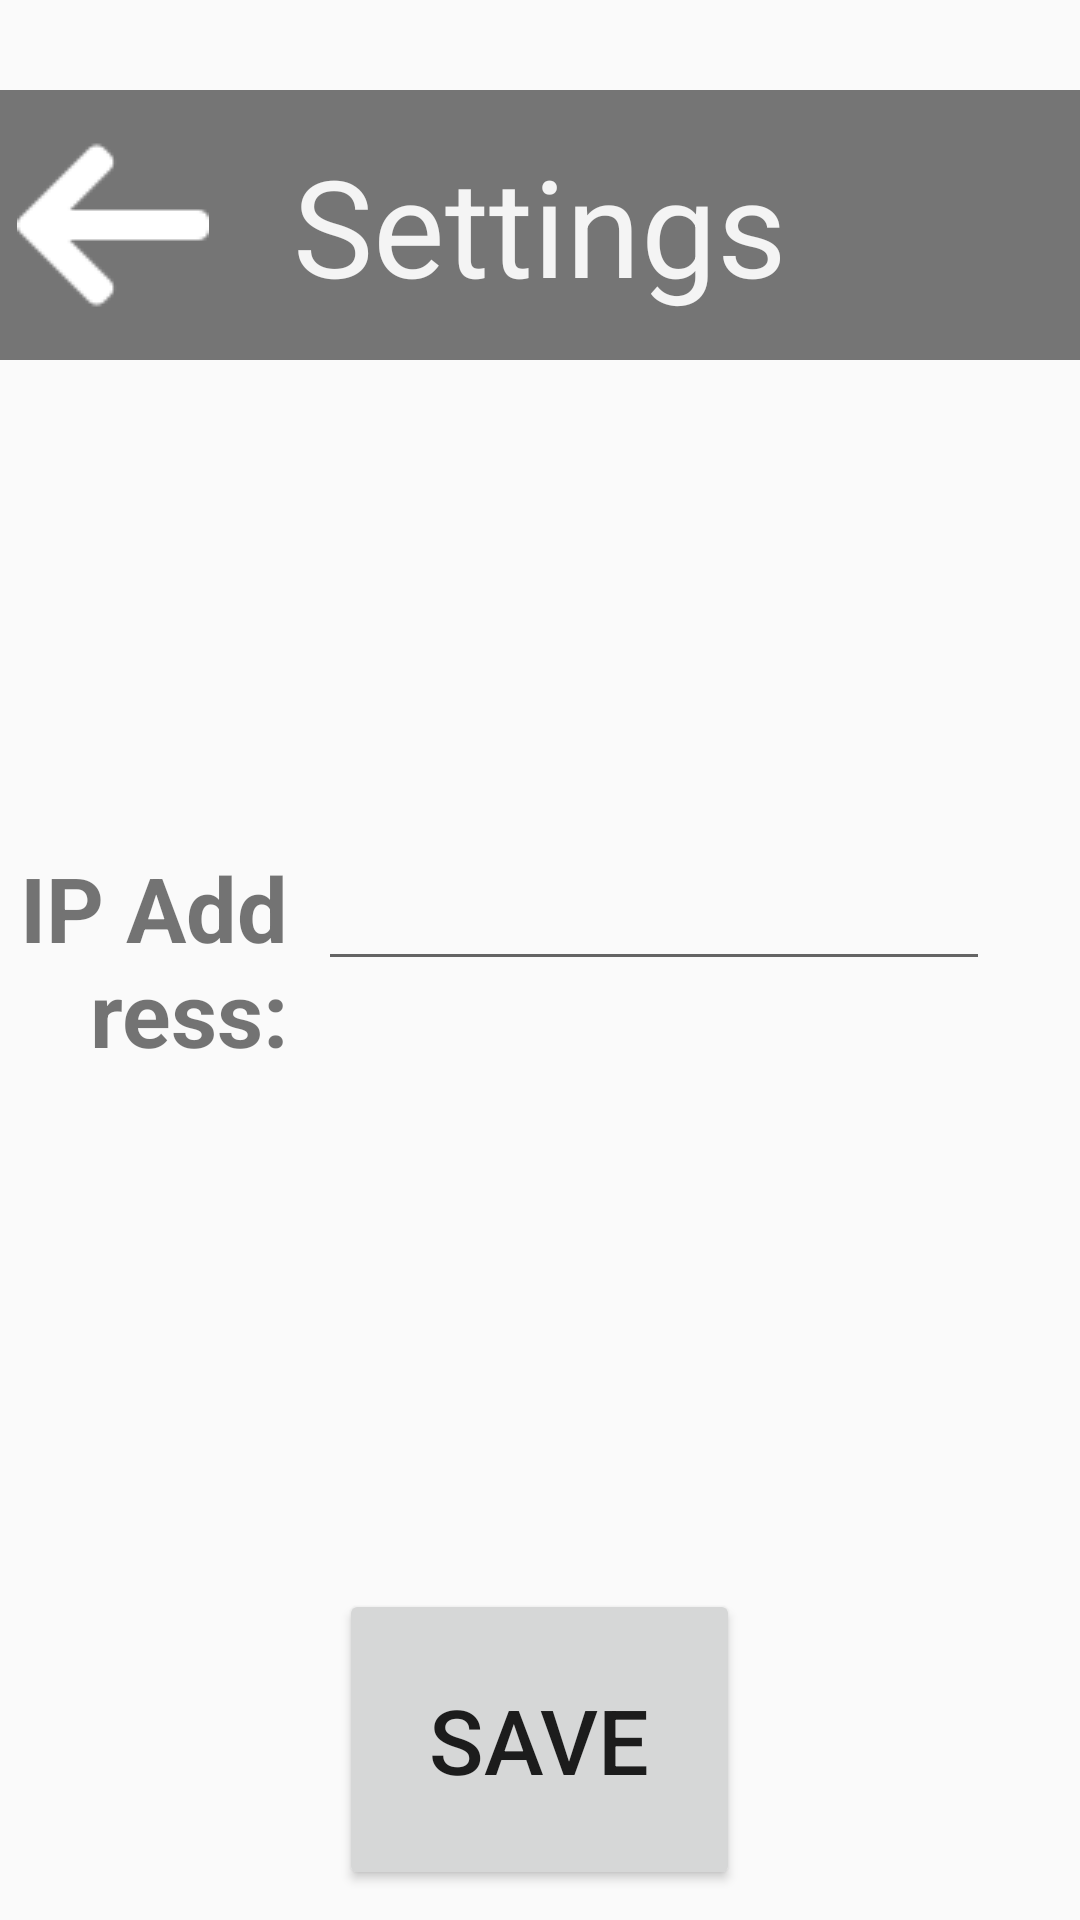

Icon click points for this 1080x1920 phone screenshot, format (x=x, y=y):
Back: (x=113, y=225)
